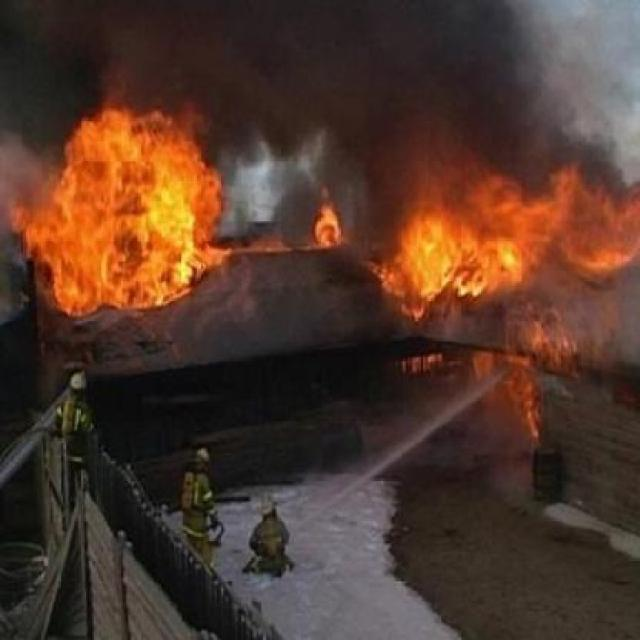Fire: (401, 162, 640, 429), (14, 87, 228, 325), (309, 200, 356, 266)
Smoke: (247, 2, 612, 146)
